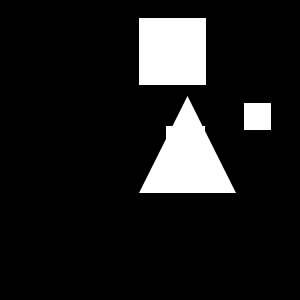circle: (139, 18, 206, 85), (166, 126, 205, 165), (244, 103, 271, 130)
triangle: (139, 96, 236, 193)
